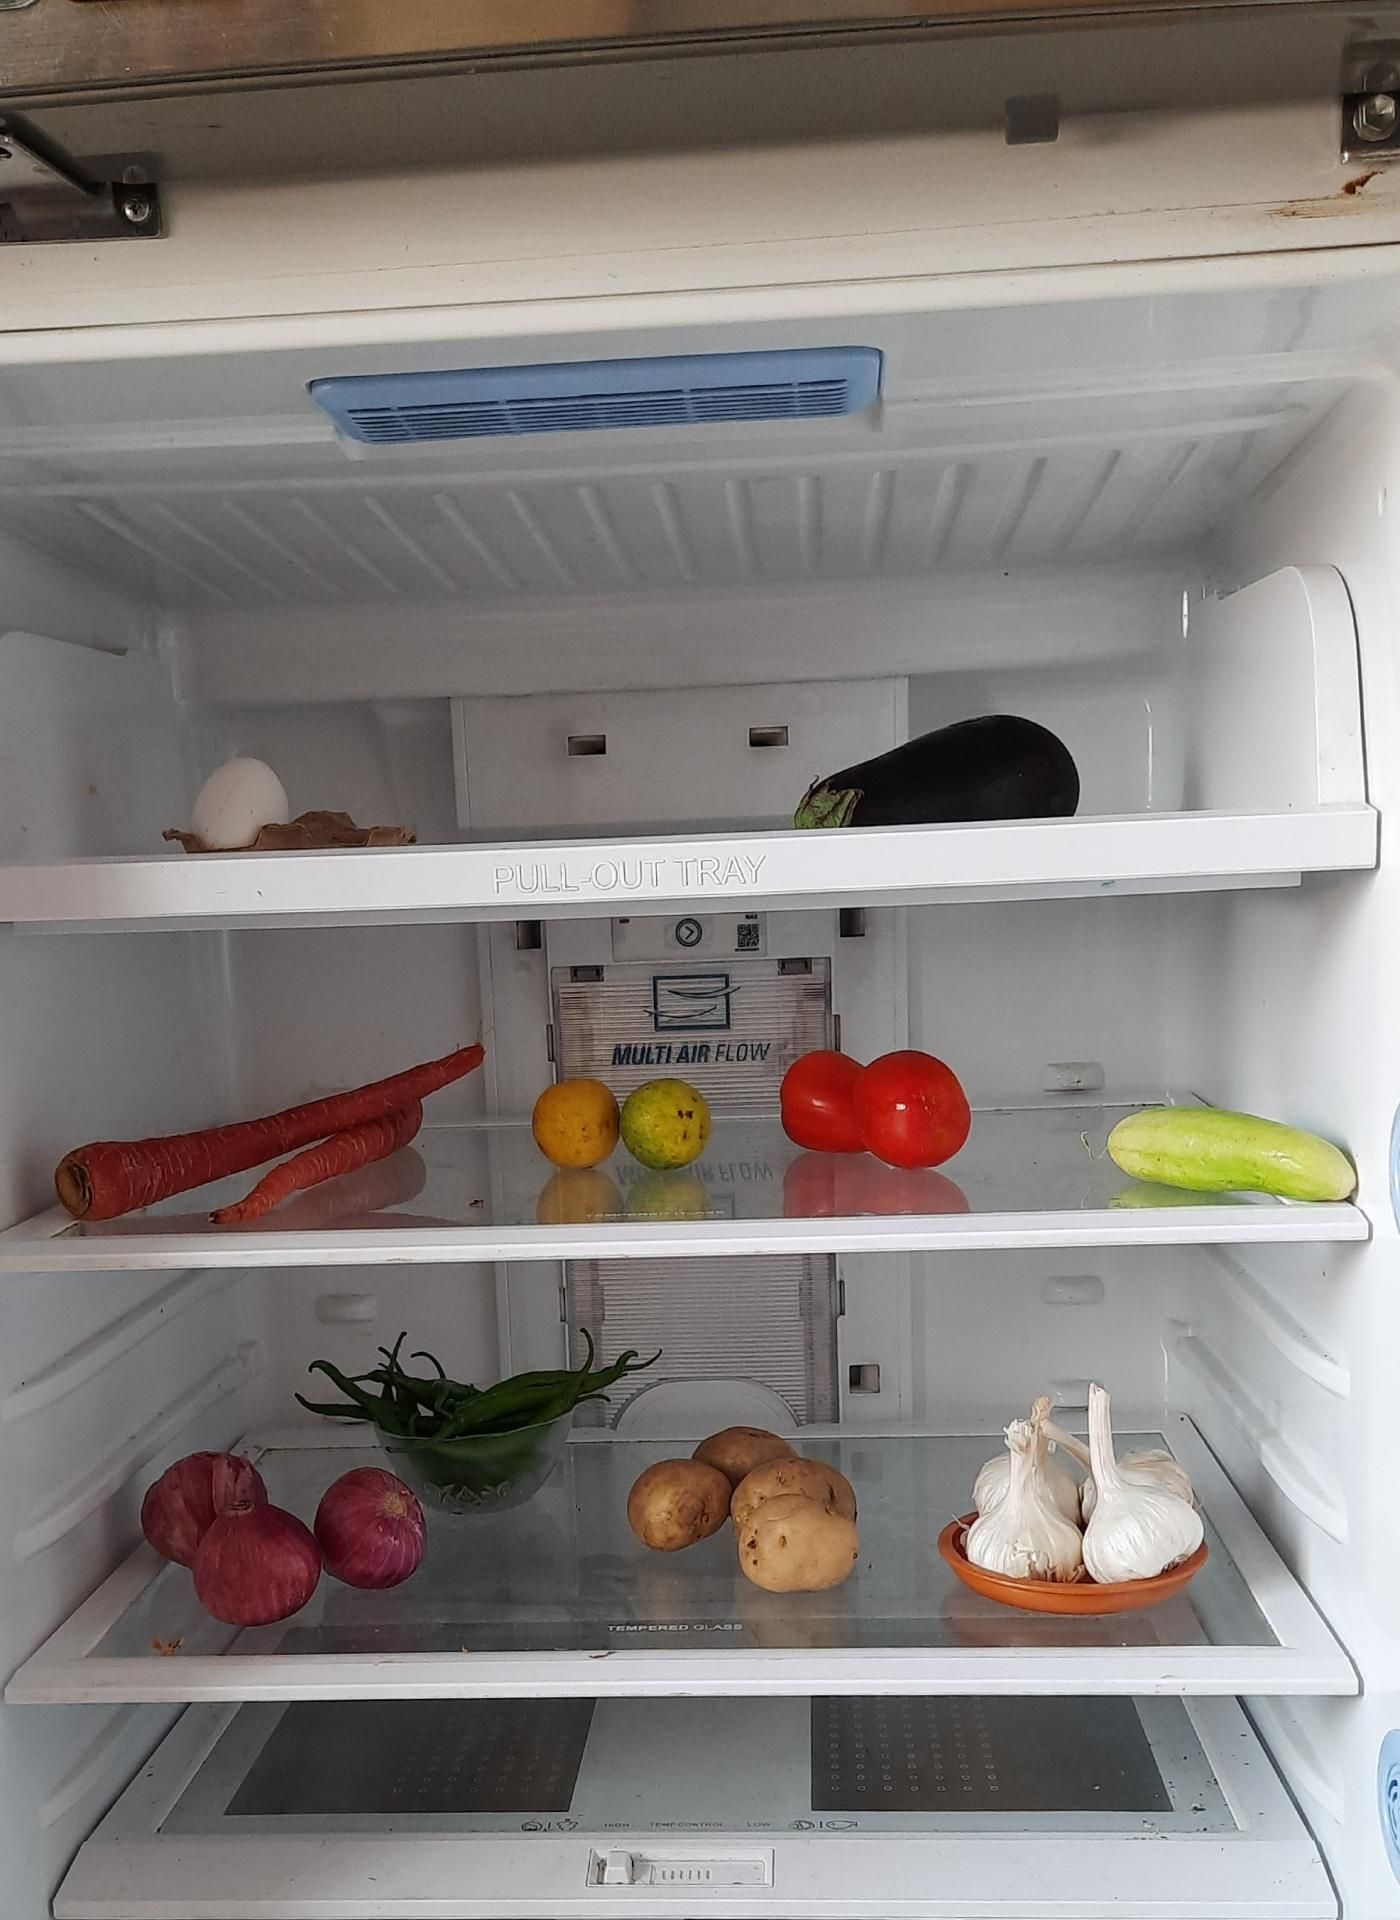brinjal: (777, 704, 1082, 824)
carrots: (27, 1052, 486, 1239)
chillies: (318, 1340, 613, 1509)
cucumber: (1103, 1108, 1358, 1203)
egg: (170, 742, 294, 869)
garlic: (954, 1379, 1200, 1588), (1082, 1377, 1205, 1583)
lemon: (532, 1069, 720, 1184)
onion: (140, 1443, 422, 1619)
potato: (632, 1415, 874, 1608)
tomato: (786, 1039, 974, 1164)
